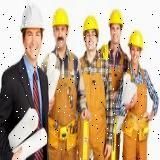Helmet: (20, 2, 45, 34), (51, 7, 70, 30), (81, 16, 100, 38), (127, 30, 144, 52), (108, 8, 124, 30)
